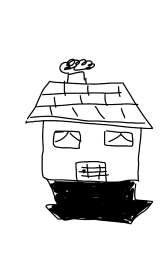door: (70, 156, 112, 185)
open_window: (99, 127, 143, 149), (49, 128, 87, 150)
roof: (13, 79, 161, 130)
shadow: (34, 174, 161, 228)
smoking_chimney: (54, 49, 102, 89)
wall: (39, 115, 143, 185)
